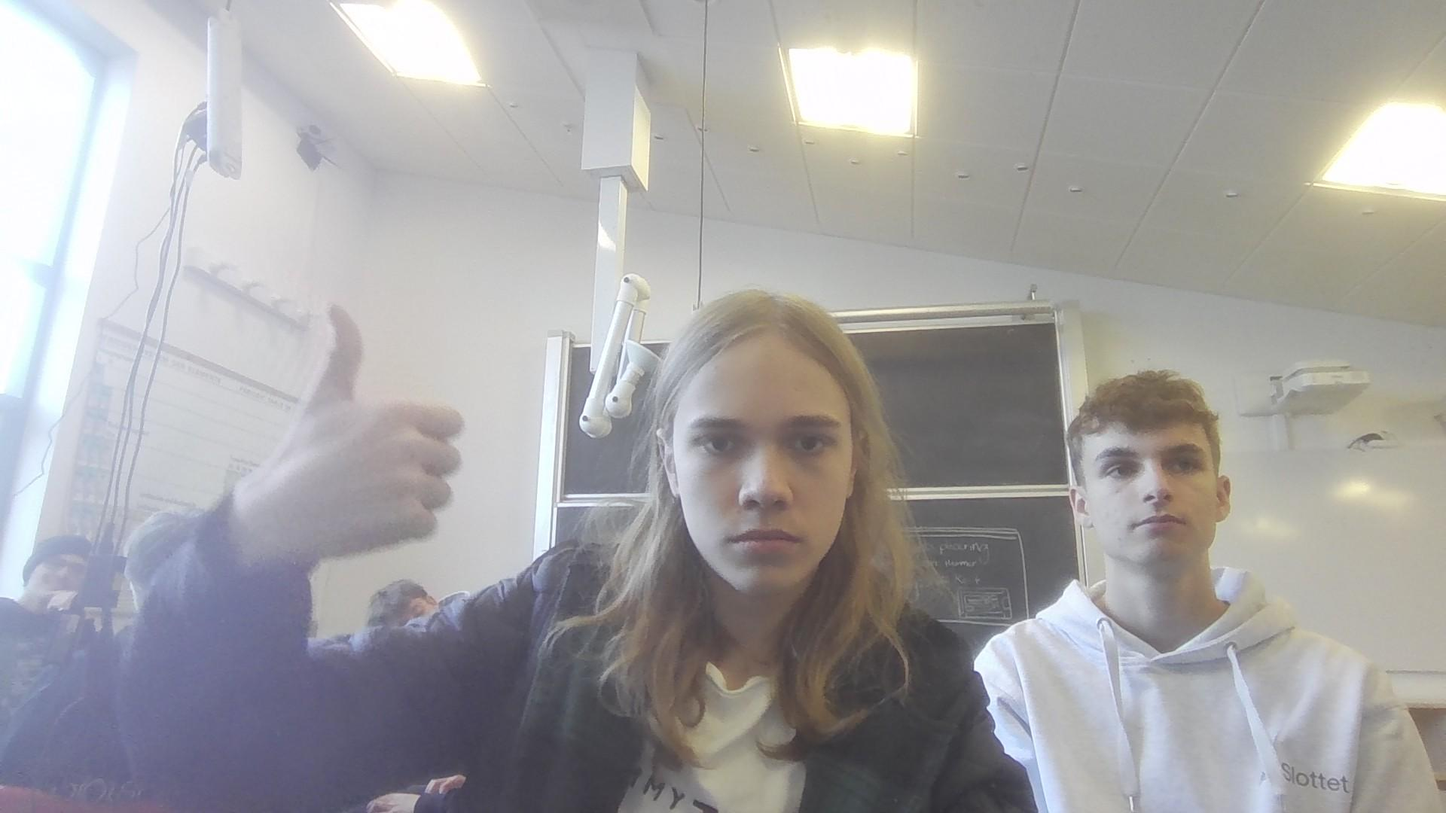thumbs up: (240, 302, 478, 586)
